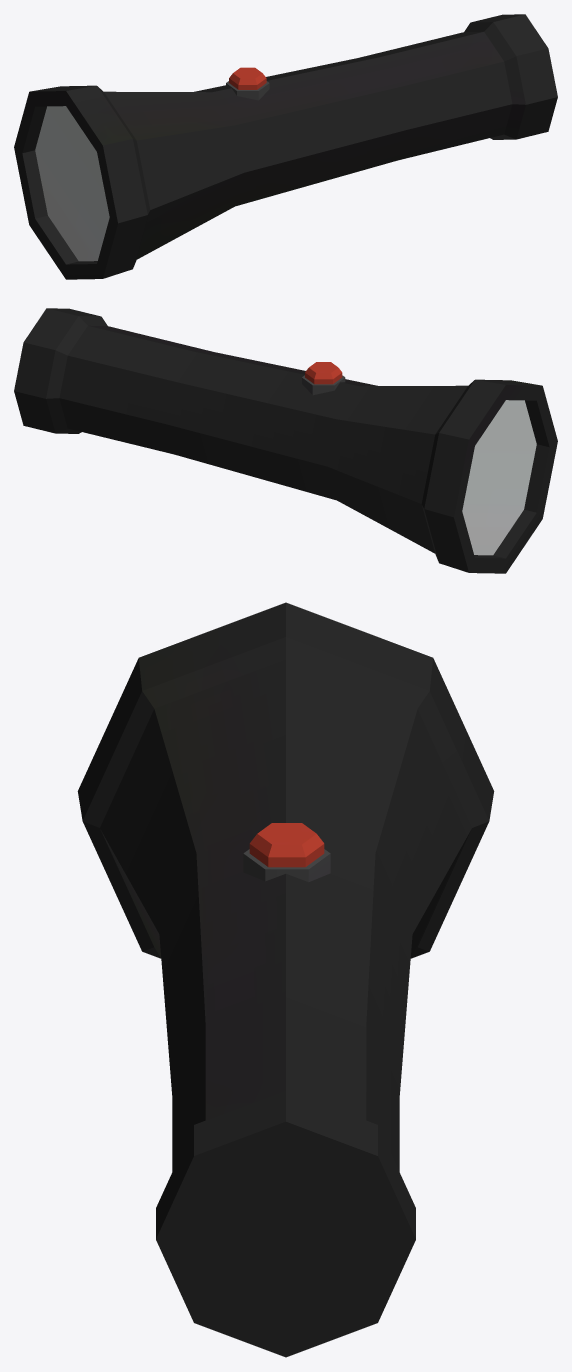
File: flashlight.fbx
The picture shows the model from 3 angles, top to bottom: view 1: azimuth 30°, elevation 25°; view 2: azimuth 150°, elevation 25°; view 3: azimuth 270°, elevation 25°; orthographic projection. The views are drawn at different scales.
Parts seen in each view (by area): view 1: Cube; view 2: Cube; view 3: Cube.
Boxes of the visible parts, <box> form: Cube: <box>14,14,557,279</box>; Cube: <box>14,308,557,573</box>; Cube: <box>77,602,494,1357</box>.
Size of the model in its own units: 932 by 366 by 366.
